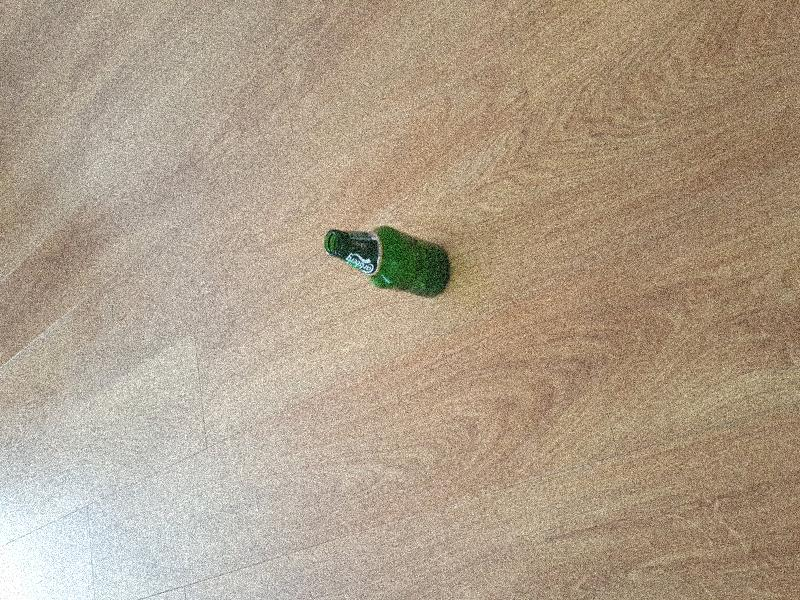Beer: (322, 225, 450, 298)
